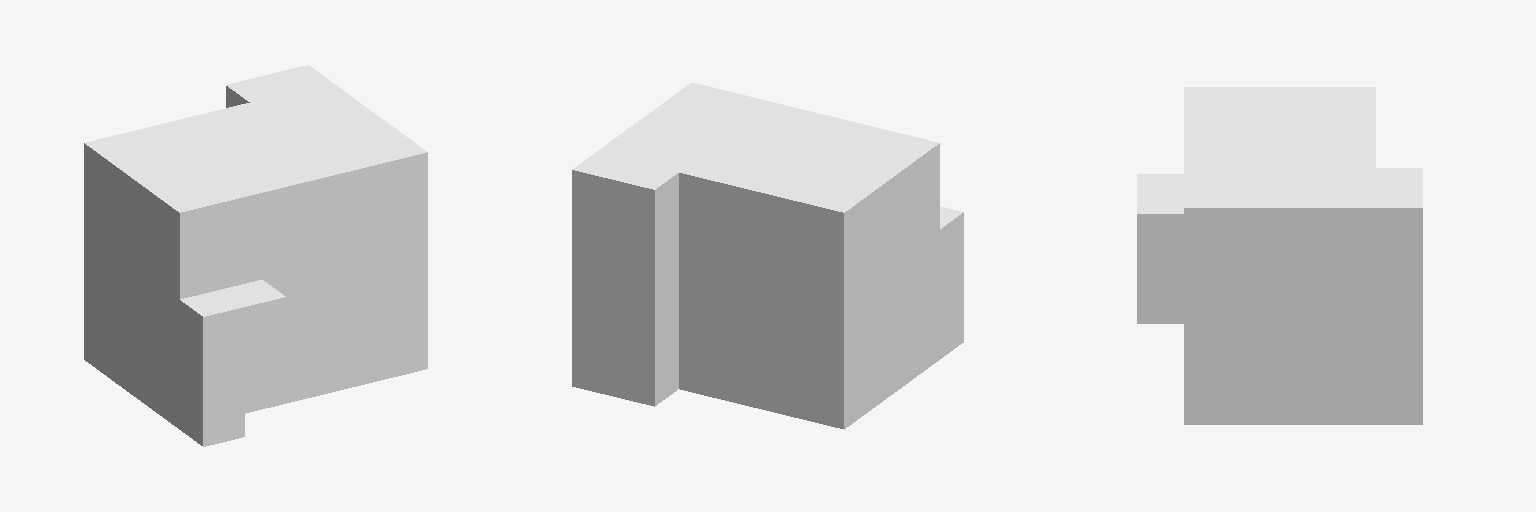
The model's file is Koala_E.obj.
3 views of the same model, side by side, from view 1: azimuth 30°, elevation 25°; view 2: azimuth 150°, elevation 25°; view 3: azimuth 270°, elevation 25° (orthographic).
Parts seen in each view (by area): view 1: object 1; view 2: object 1; view 3: object 1.
Boxes of the visible parts, x1,y1,x2,y2 form: object 1: [84, 65, 427, 446]; object 1: [572, 82, 963, 429]; object 1: [1137, 87, 1422, 424].
Bounding box in the file's own units: 0.6 × 0.5 × 0.6.